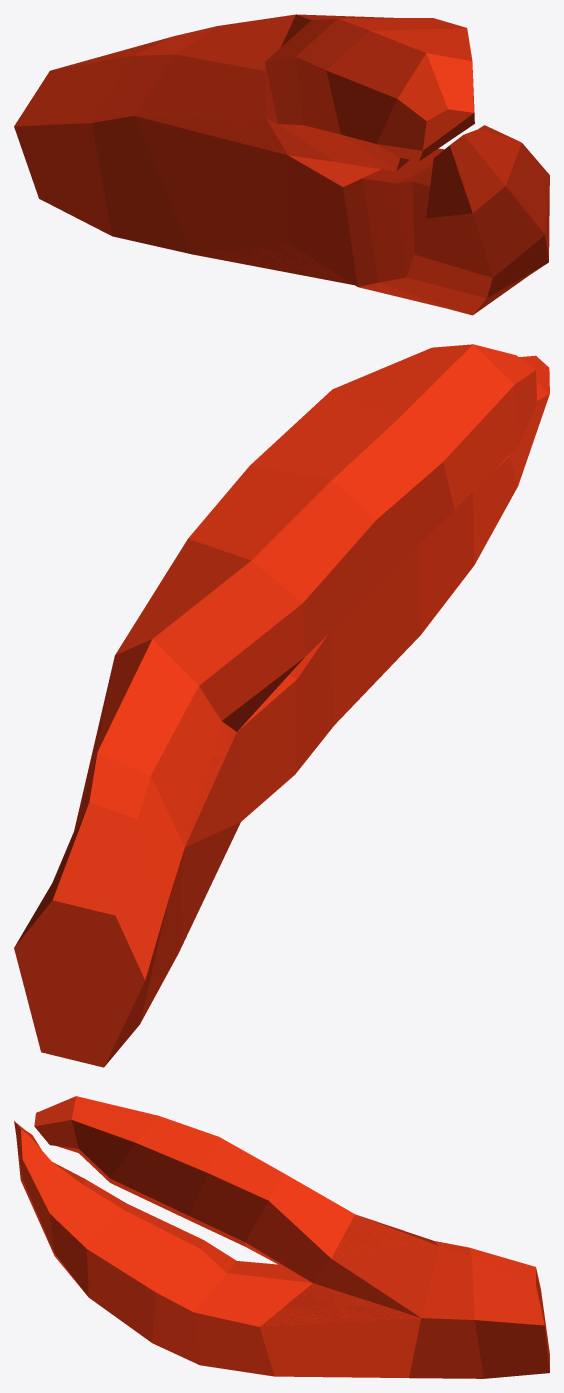
File: LobsterClawL.fbx
3 views of the same model, one above another, from view 1: azimuth 30°, elevation 25°; view 2: azimuth 150°, elevation 25°; view 3: azimuth 270°, elevation 25° (orthographic). The views are drawn at different scales.
Visible parts, largest first — view 1: Lobster; view 2: Lobster; view 3: Lobster.
Boxes of the visible parts, left/top/right/bottom form: Lobster: left=14, top=14, right=549, bottom=315; Lobster: left=14, top=344, right=549, bottom=1067; Lobster: left=14, top=1096, right=549, bottom=1378.
Size of the model in its own units: 14.31 by 24.33 by 43.77.
